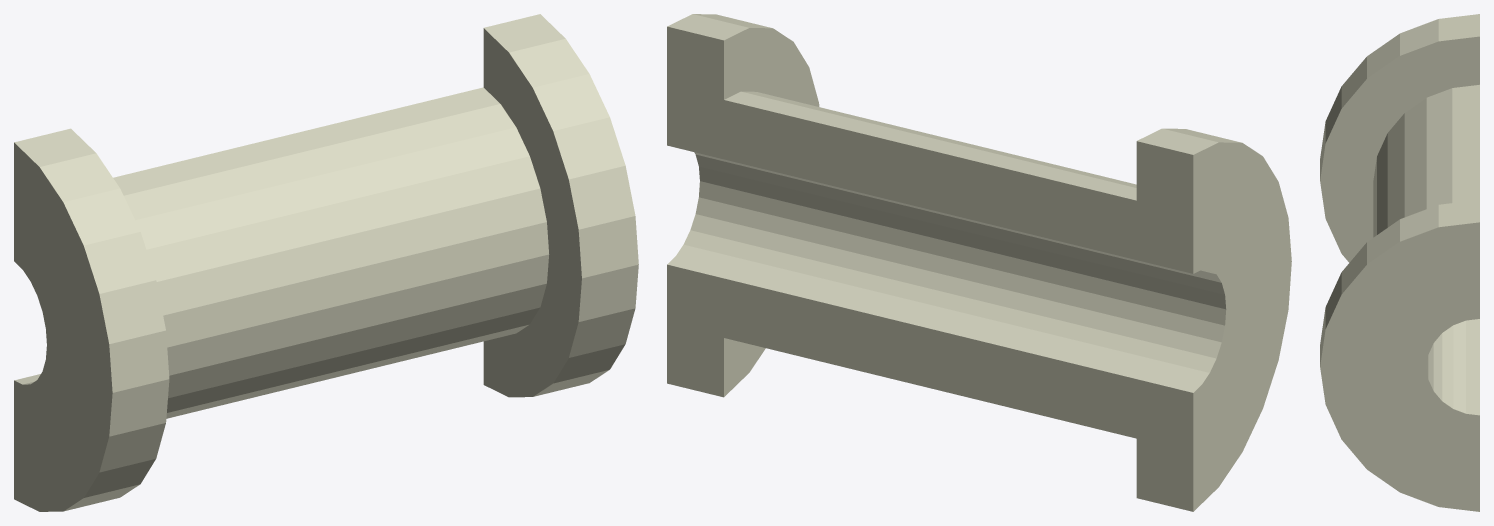
Rendered from section_095.obj.
3 renders of one model, left to right at view 1: azimuth 30°, elevation 25°; view 2: azimuth 150°, elevation 25°; view 3: azimuth 270°, elevation 25°, orthographic. The views are drawn at different scales.
Size of the model in its own units: 9.26 by 6 by 3.
